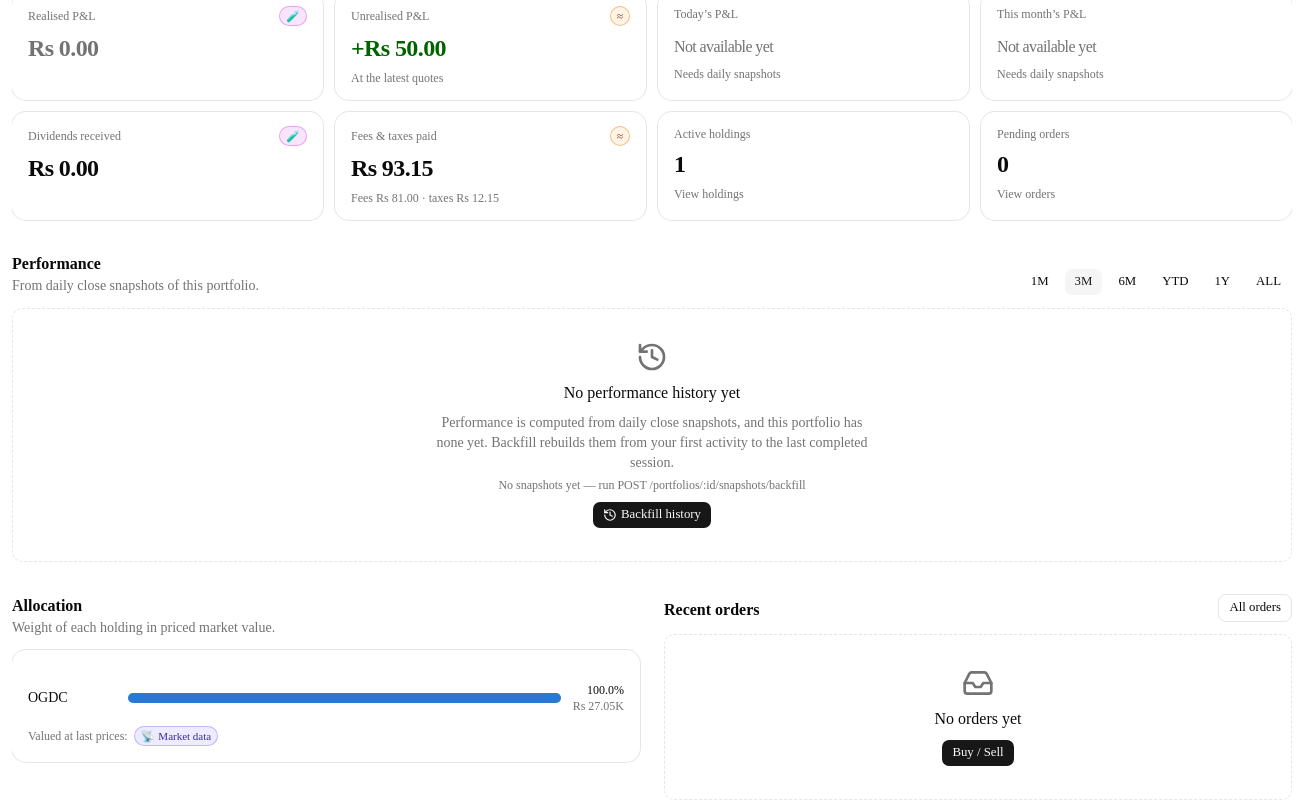
Test: Dashboard › shows an empty state with "Backfill history" when there are no snapshots, then the data
(page scrolled)
Check: the text "No performance history yet" is shown, box [564,381,740,405]
Click the button "Backfill history".
click(652, 515)  # box [592,501,712,529]
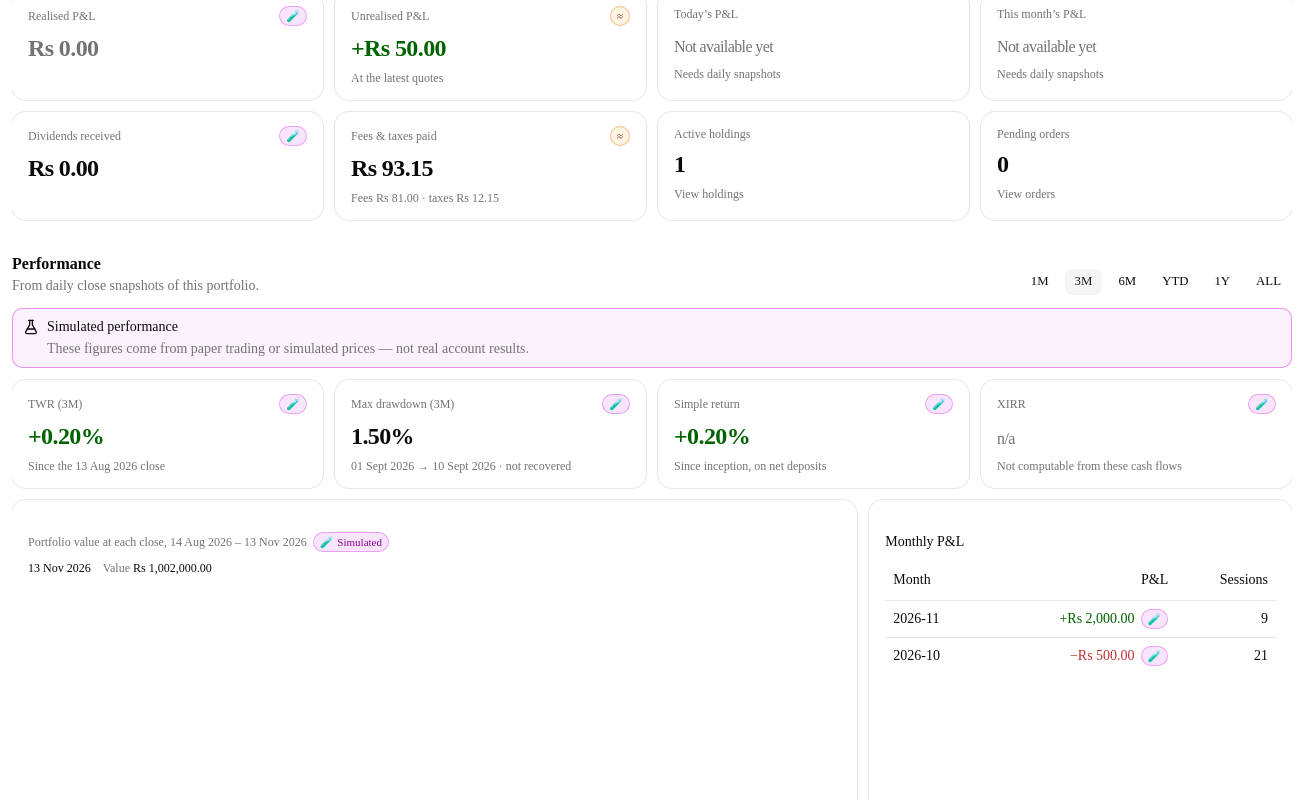
Check: the element with test id "performance-metrics" is shown, box [12,380,1292,488]
Check: the text "No performance history yet" is gone
